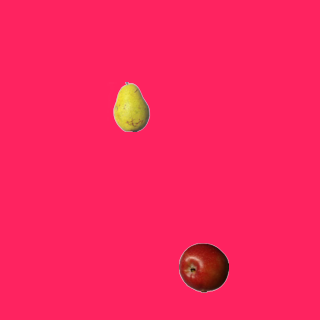Apple Braeburn: (178, 242, 228, 292)
Pear Monster: (106, 81, 156, 131)
